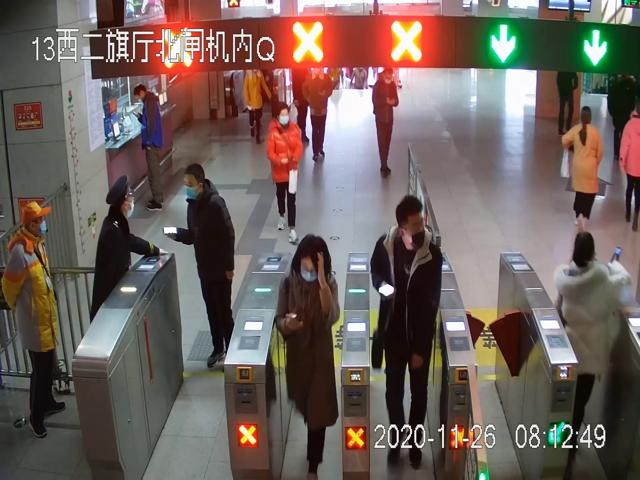person: (371, 196, 443, 470), (554, 233, 630, 473), (1, 200, 67, 439), (275, 234, 338, 480), (170, 164, 235, 367), (91, 175, 161, 312), (266, 101, 303, 247), (133, 83, 167, 212), (371, 66, 398, 177)
